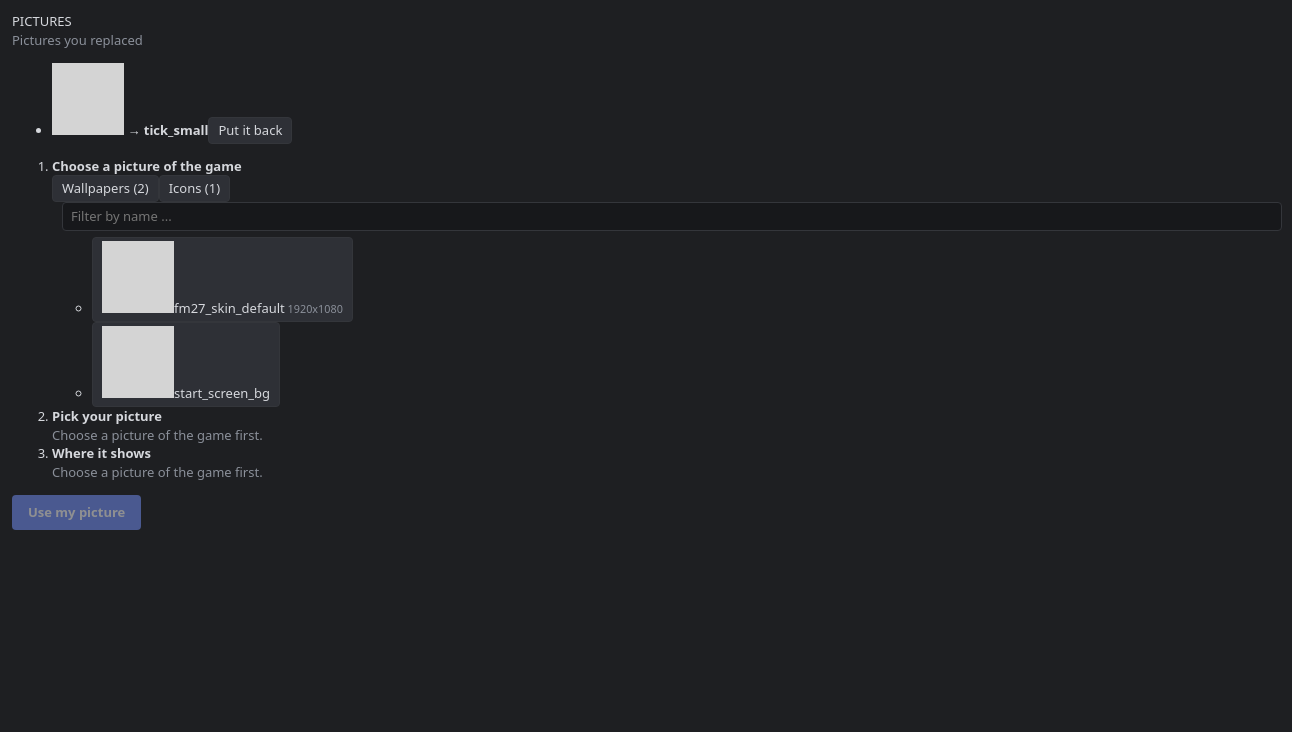
pictures in three steps › every replaced picture can be put back
Click the button "Put it back": {"x": 250, "y": 130} top-left (208, 117), bottom-right (292, 144)
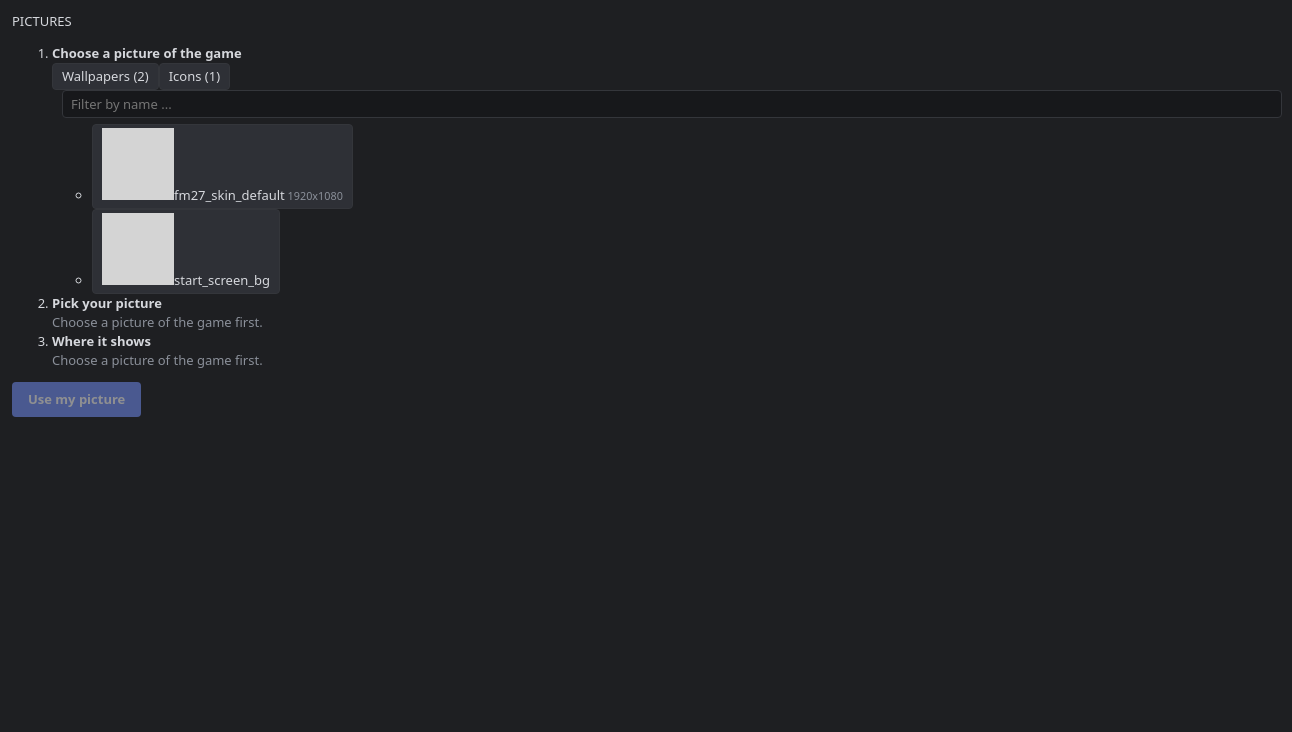
Expected: the button "Put it back" is gone
